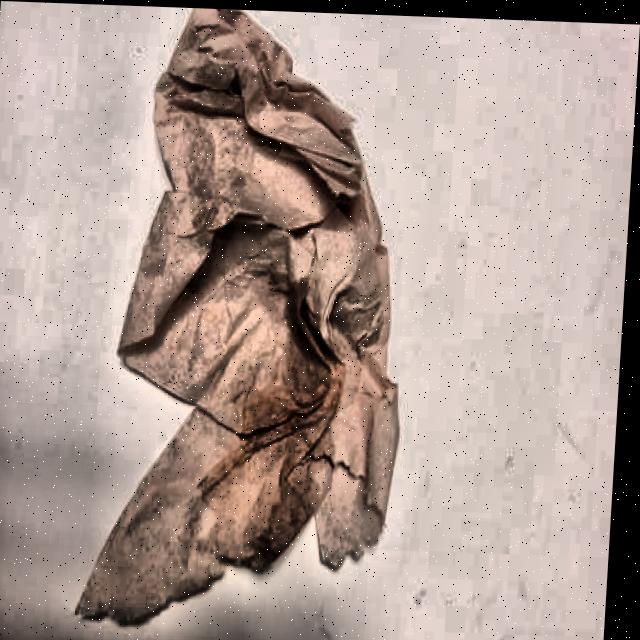plastic: (52, 8, 428, 640)
